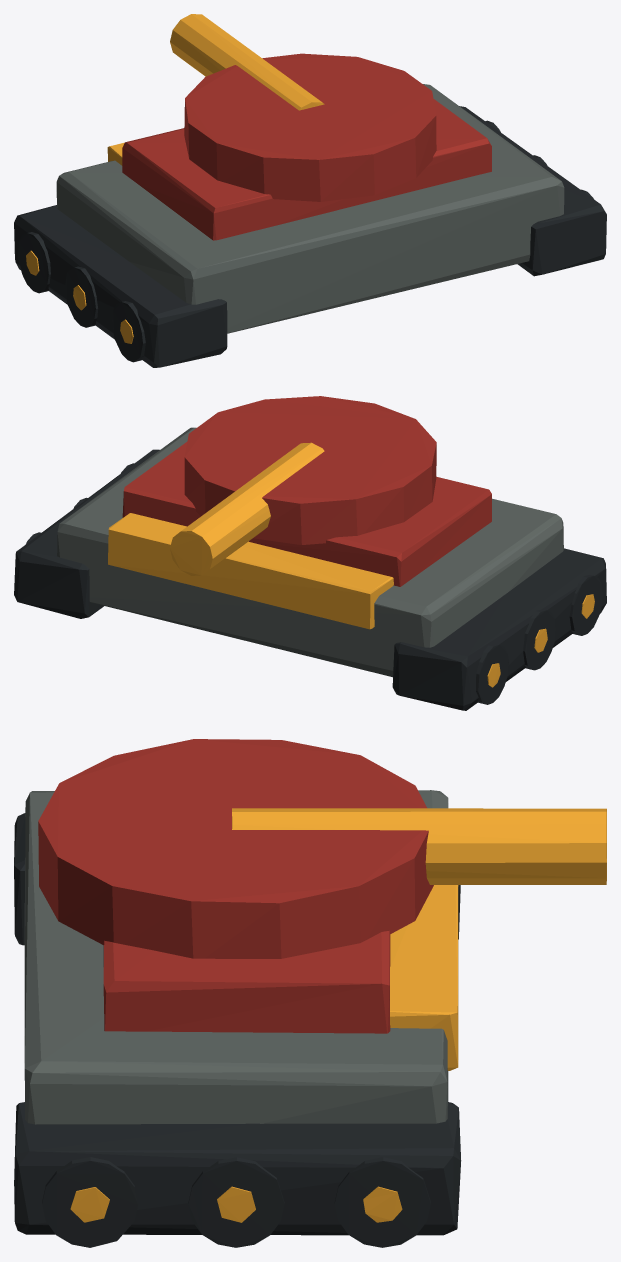
Rendered from SM_Soviet_SU_GranitMBT_LOD2.fbx.
The picture shows the model from 3 angles, top to bottom: view 1: azimuth 30°, elevation 25°; view 2: azimuth 150°, elevation 25°; view 3: azimuth 270°, elevation 25°; orthographic projection. The views are drawn at different scales.
Parts seen in each view (by area): view 1: LOD02_SM_Soviet_SU_GranitMBT; view 2: LOD02_SM_Soviet_SU_GranitMBT; view 3: LOD02_SM_Soviet_SU_GranitMBT.
Boxes of the visible parts, left/top/right/bottom form: LOD02_SM_Soviet_SU_GranitMBT: left=14, top=14, right=606, bottom=367; LOD02_SM_Soviet_SU_GranitMBT: left=14, top=396, right=606, bottom=710; LOD02_SM_Soviet_SU_GranitMBT: left=14, top=739, right=606, bottom=1247.
Size of the model in its own units: 524 by 375 by 182.
